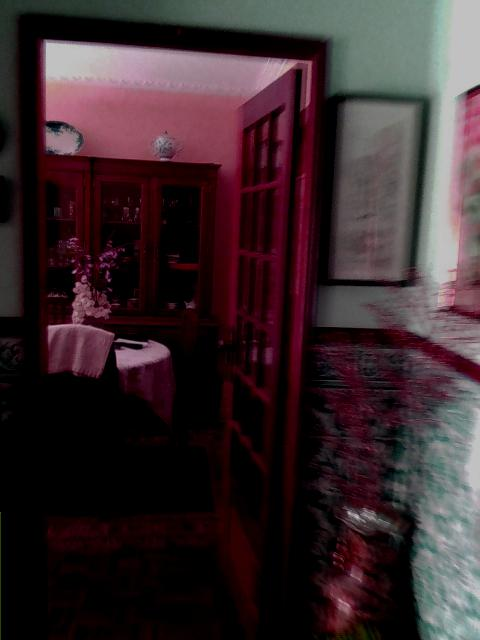open_door: (18, 14, 334, 639)
